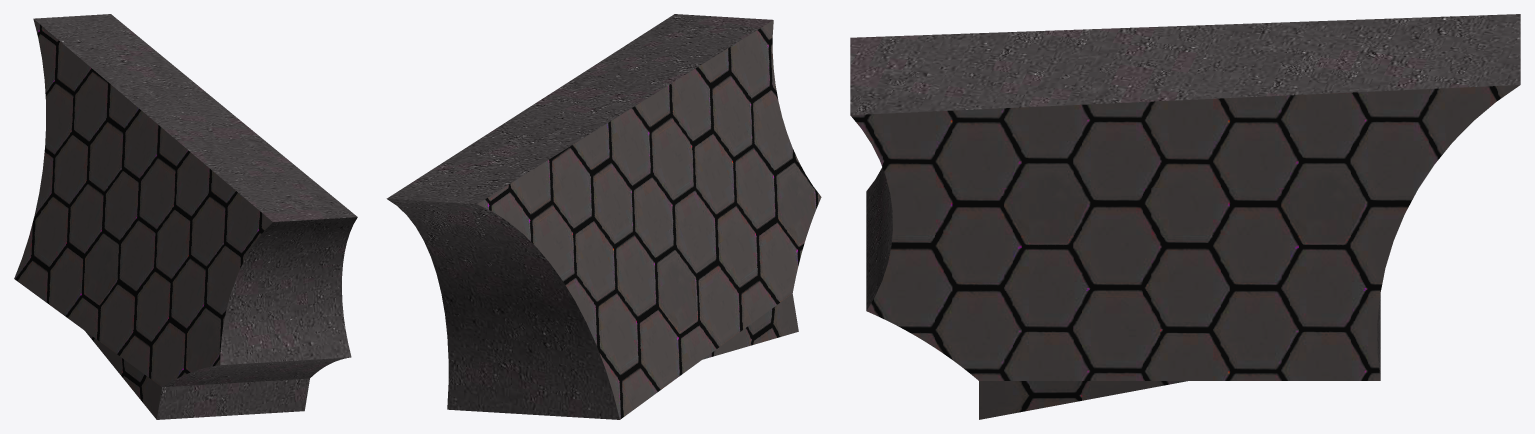
The model's file is wing_r1.obj.
3 renders of one model, left to right at view 1: azimuth 30°, elevation 25°; view 2: azimuth 150°, elevation 25°; view 3: azimuth 270°, elevation 25°, orthographic. The views are drawn at different scales.
Parts seen in each view (by area): view 1: togezo_koura-SKP--_Tile_Hexagon_White_r1, togezo_koura-SKP--_Asphalt_New_r1; view 2: togezo_koura-SKP--_Tile_Hexagon_White_r1, togezo_koura-SKP--_Asphalt_New_r1; view 3: togezo_koura-SKP--_Tile_Hexagon_White_r1, togezo_koura-SKP--_Asphalt_New_r1.
Boxes of the visible parts, box(x1,y1,x2,y2) form: togezo_koura-SKP--_Tile_Hexagon_White_r1: box(14, 19, 272, 419); togezo_koura-SKP--_Asphalt_New_r1: box(34, 14, 357, 419); togezo_koura-SKP--_Tile_Hexagon_White_r1: box(477, 20, 821, 419); togezo_koura-SKP--_Asphalt_New_r1: box(386, 14, 772, 419); togezo_koura-SKP--_Tile_Hexagon_White_r1: box(850, 85, 1519, 419); togezo_koura-SKP--_Asphalt_New_r1: box(850, 14, 1520, 378).
Bounding box in the file's own units: 0.2608 × 0.4278 × 0.7253.
2 materials, 2 textured.
